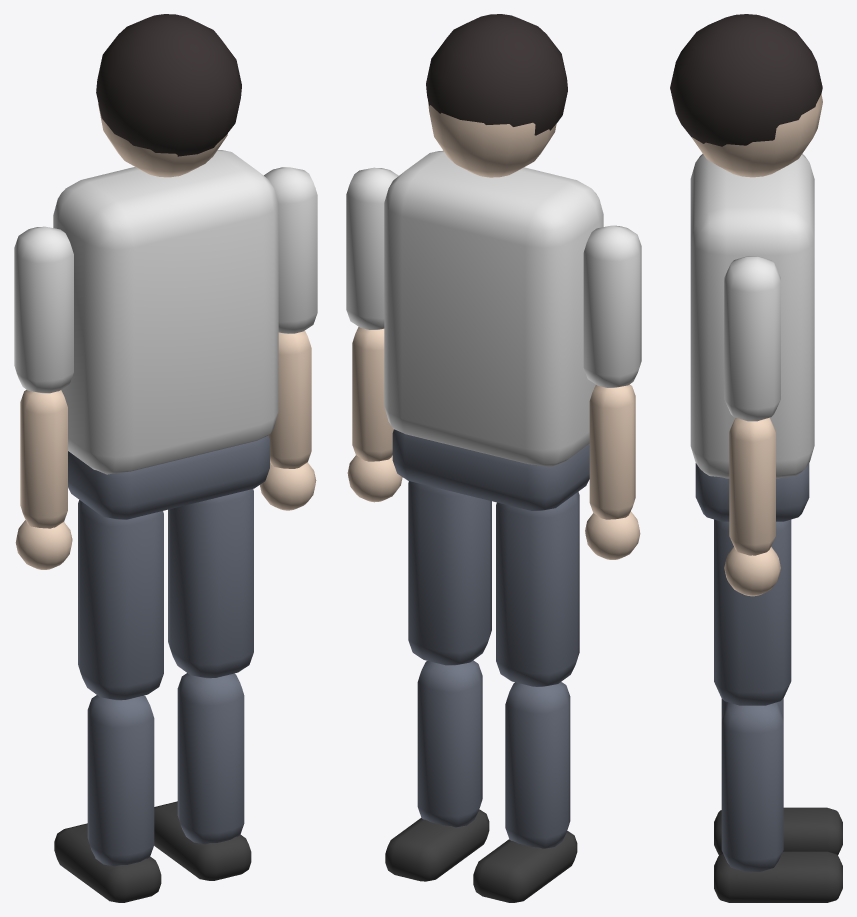
File: person.glb
The picture shows the model from 3 angles, left to right: view 1: azimuth 30°, elevation 25°; view 2: azimuth 150°, elevation 25°; view 3: azimuth 270°, elevation 25°; orthographic projection. The views are drawn at different scales.
Visible parts, largest first — view 1: Torso, LegMeshL, LegMeshR, HeadMesh, ArmMeshL, ArmMeshR, Hips; view 2: Torso, LegMeshL, LegMeshR, HeadMesh, ArmMeshL, ArmMeshR, Hips; view 3: Torso, LegMeshR, HeadMesh, ArmMeshR, LegMeshL, Hips.
Boxes of the visible parts, <box> form: Torso: <box>53,150,278,474</box>; LegMeshL: <box>54,500,163,902</box>; LegMeshR: <box>154,489,253,880</box>; HeadMesh: <box>96,14,241,177</box>; ArmMeshL: <box>14,226,73,569</box>; ArmMeshR: <box>260,167,317,510</box>; Hips: <box>68,436,269,519</box>; Torso: <box>384,150,603,466</box>; LegMeshL: <box>473,491,579,902</box>; LegMeshR: <box>385,481,491,881</box>; HeadMesh: <box>426,14,567,177</box>; ArmMeshL: <box>583,225,641,559</box>; ArmMeshR: <box>346,167,402,502</box>; Hips: <box>392,429,589,510</box>; Torso: <box>690,154,814,478</box>; LegMeshR: <box>714,519,842,902</box>; HeadMesh: <box>670,14,822,177</box>; ArmMeshR: <box>724,256,780,596</box>; LegMeshL: <box>714,698,842,854</box>; Hips: <box>695,463,809,521</box>.
Bounding box in the file's own units: 0.65 × 1.82 × 0.335.
